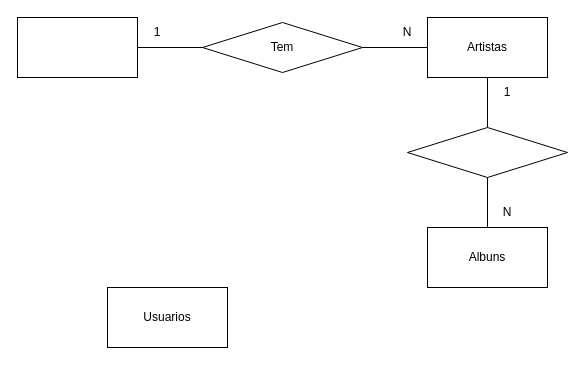
This 585x365 diagram has some shape labels left out. Each missing label, with the box of its shape:
Estilos: (16, 16, 138, 78)
Possui: (406, 126, 568, 178)
